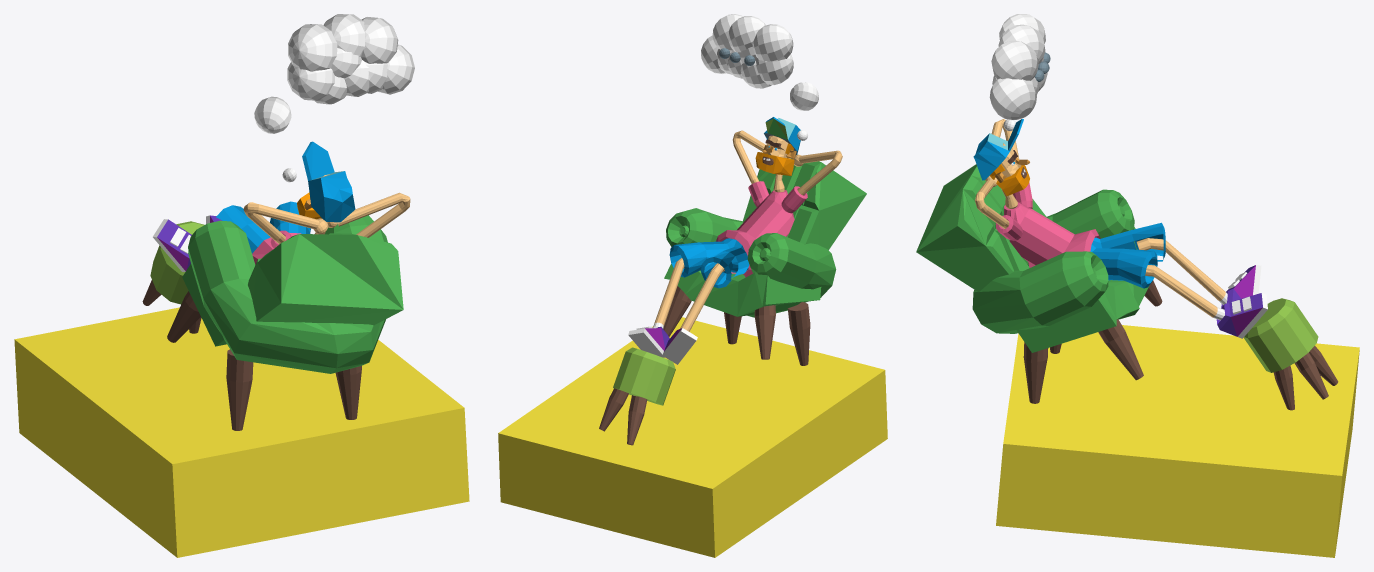
File: scene_MC658Qzt6i.glb
3 views of the same model, side by side, from view 1: azimuth 30°, elevation 25°; view 2: azimuth 150°, elevation 25°; view 3: azimuth 270°, elevation 25° (orthographic). The views are drawn at different scales.
Visible parts, largest first — view 1: Node; view 2: Node; view 3: Node.
Part boxes in pixels (x1,y1,x2,y2): Node: (14, 14, 469, 557); Node: (498, 14, 887, 557); Node: (916, 14, 1359, 557).
Size of the model in its own units: 2.81 by 4.47 by 3.83.
